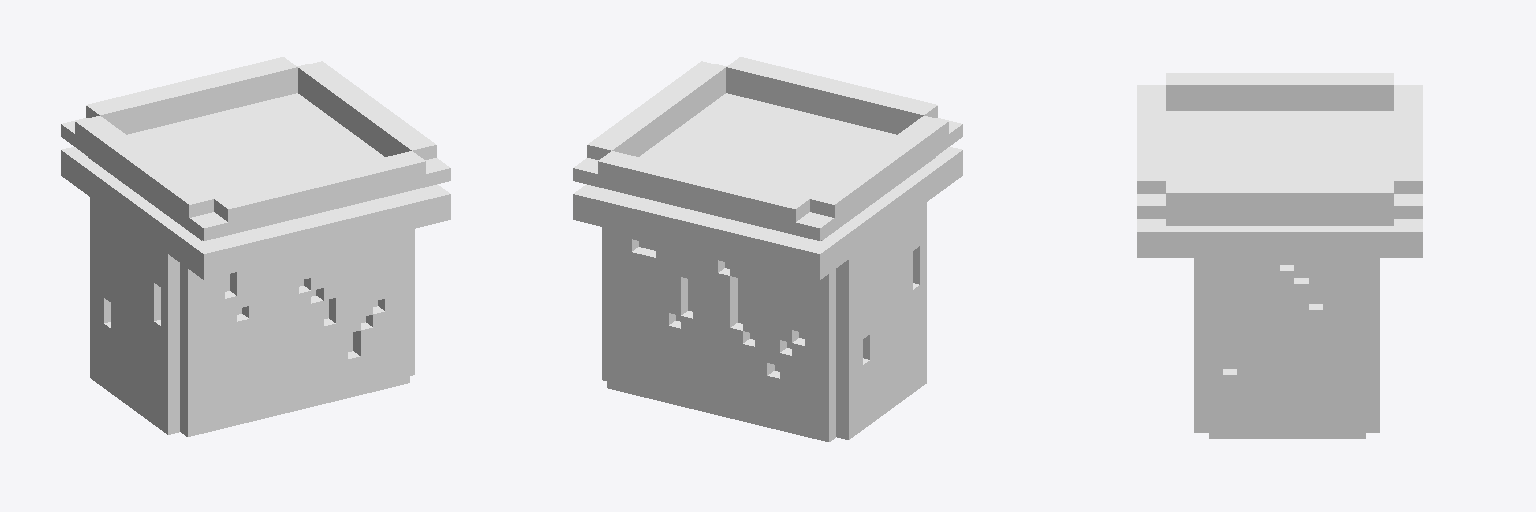
Rendered from WellSclaled.obj.
3 views of the same model, side by side, from view 1: azimuth 30°, elevation 25°; view 2: azimuth 150°, elevation 25°; view 3: azimuth 270°, elevation 25° (orthographic).
Visible parts, largest first — view 1: object 1; view 2: object 1; view 3: object 1.
Part boxes in pixels (bbox=[...]): object 1: bbox=[61, 57, 450, 436]; object 1: bbox=[573, 57, 962, 441]; object 1: bbox=[1137, 73, 1422, 438].
Bounding box in the file's own units: 2 × 1.9 × 2.